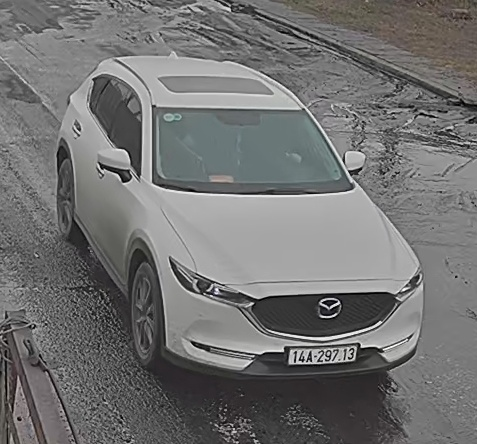vehicle plate: (280, 342, 370, 364)
